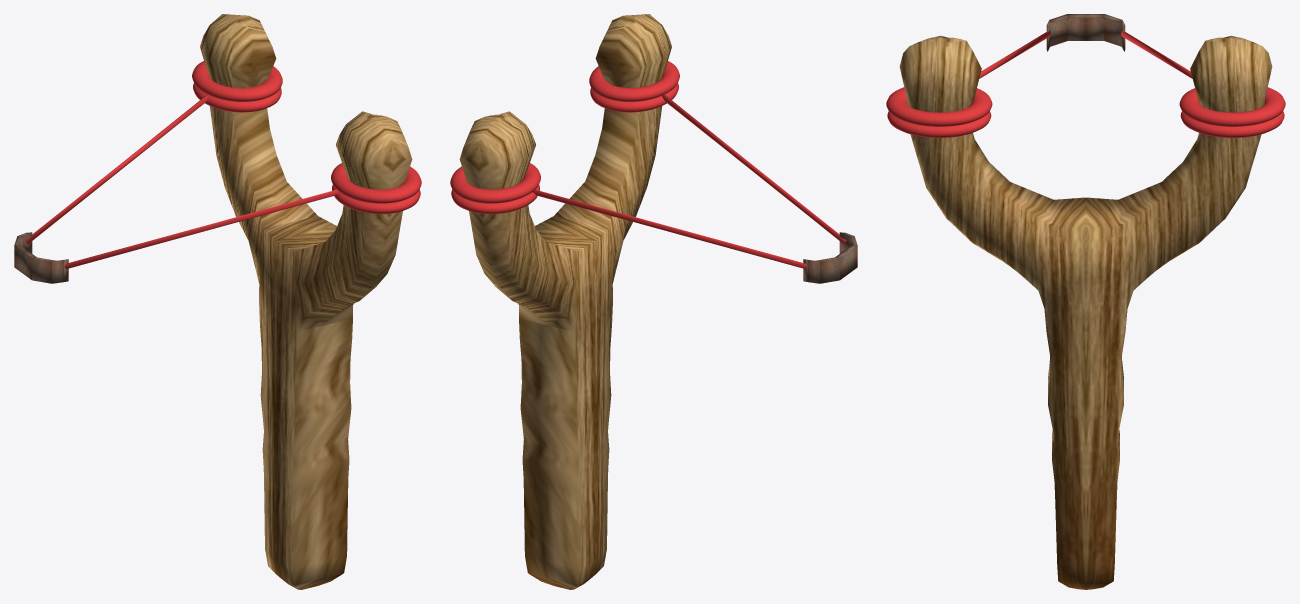
File: Lance pierre.fbx
3 renders of one model, left to right at view 1: azimuth 30°, elevation 25°; view 2: azimuth 150°, elevation 25°; view 3: azimuth 270°, elevation 25°, orthographic. The views are drawn at different scales.
Visible parts, largest first — view 1: Torus; view 2: Torus; view 3: Torus.
Boxes of the visible parts, box(x1,y1,x2,y2) form: Torus: box(14, 14, 421, 589); Torus: box(450, 14, 857, 589); Torus: box(886, 14, 1285, 589).
Bounding box in the file's own units: 484 × 747 × 493.
